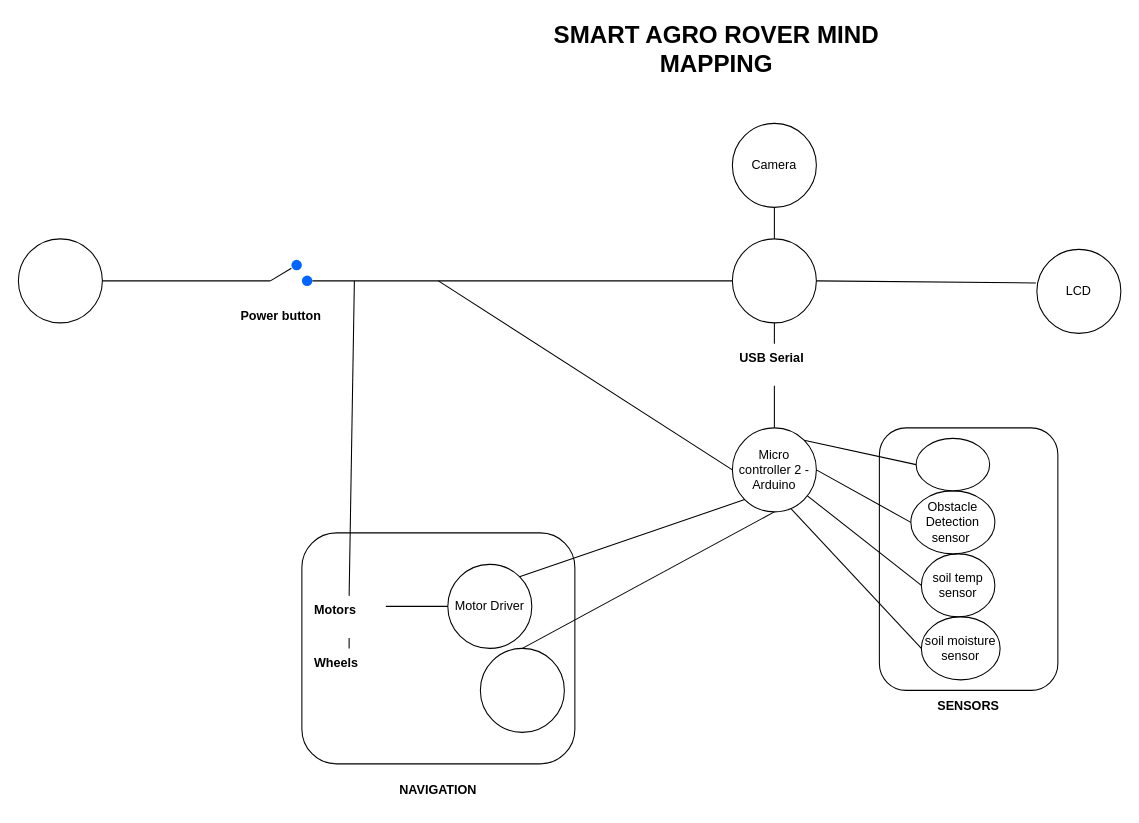
Image size: 1139x823. Some labels were removed from this diagram. Here are the shapes that lost their labels. From the top down, the centre of each, then its label:
At point 59,280: "Power Source".
At point 773,280: "Micro controller 1 -Raspberry Pi".
At point 952,464: "Ambient Temp/Humidity".
At point 521,689: "wheel Encoder sensor".
